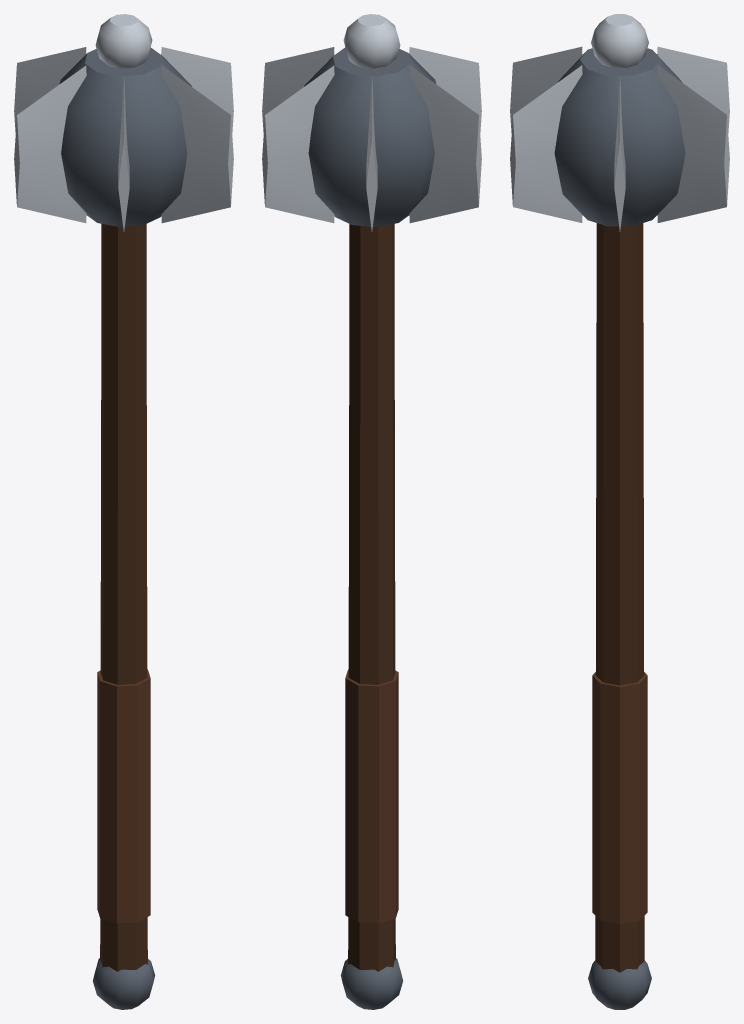
Rendered from Mace.fbx.
3 renders of one model, left to right at view 1: azimuth 30°, elevation 25°; view 2: azimuth 150°, elevation 25°; view 3: azimuth 270°, elevation 25°, orthographic.
Parts seen in each view (by area): view 1: Mace; view 2: Mace; view 3: Mace.
Boxes of the visible parts, x1=… form: Mace: x1=14, y1=14, x2=233, y2=1009; Mace: x1=262, y1=14, x2=481, y2=1009; Mace: x1=510, y1=14, x2=729, y2=1009.
Size of the model in its own units: 0.17 by 0.7464 by 0.1512.
